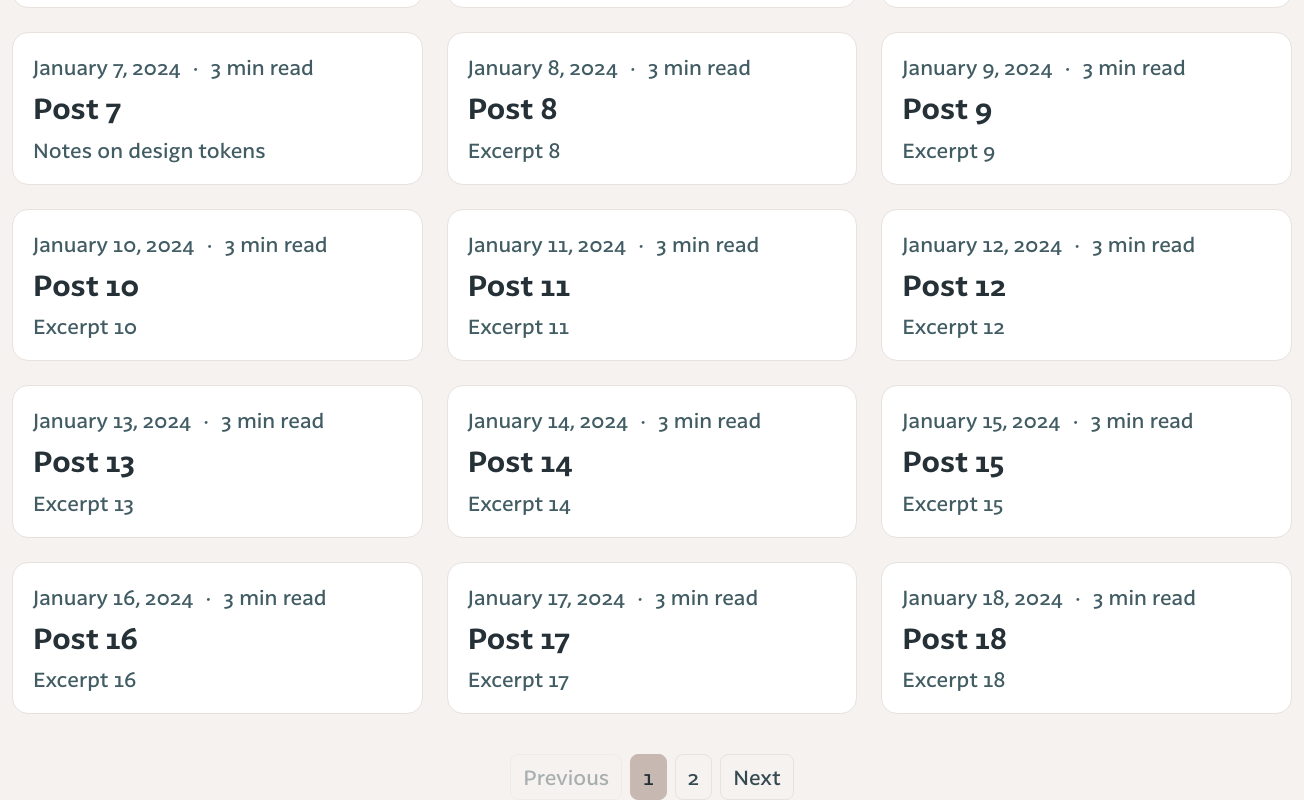
Test: PostsListClient › paginates 18 posts per page
This screenshot has width=1304, height=800.
(page scrolled)
Click the button "Next" at (757, 777), box [720,754,794,799]
(page scrolled)
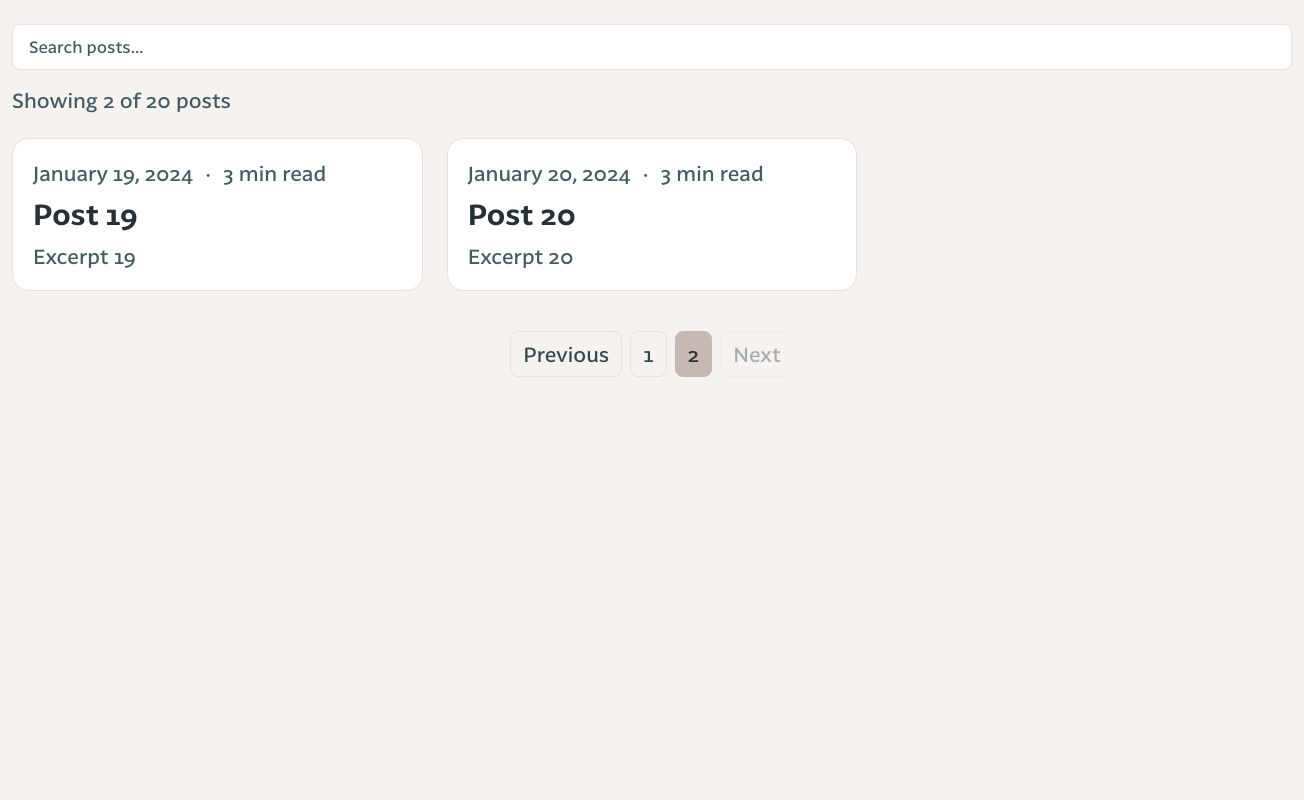
expect the text "Showing 2 of 20 posts" is shown: met, box [12,88,231,112]
